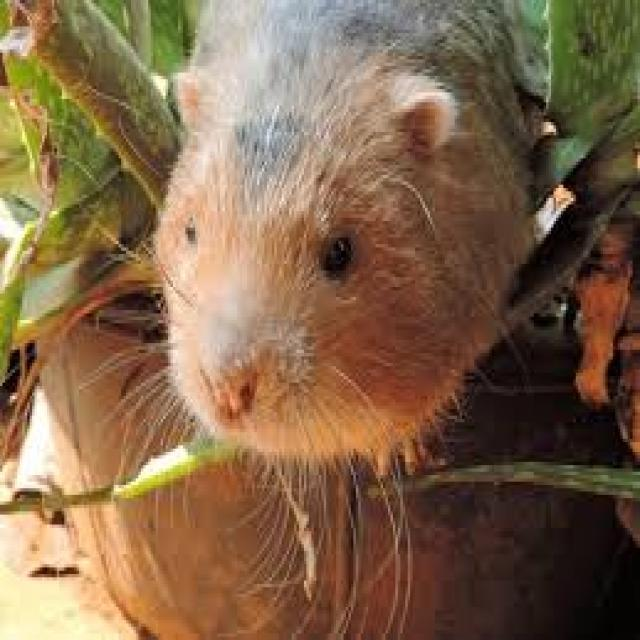Rat: (141, 19, 562, 493)
